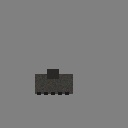personnel: (35, 74, 73, 94)
